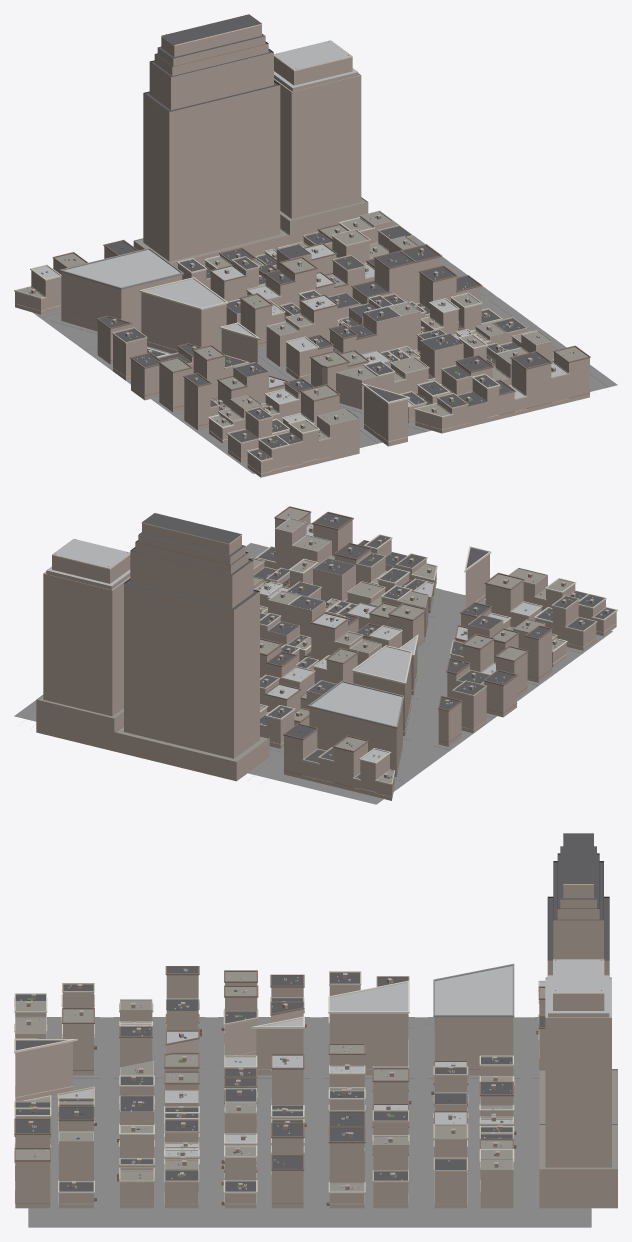
3 views of the same model, one above another, from view 1: azimuth 30°, elevation 25°; view 2: azimuth 150°, elevation 25°; view 3: azimuth 270°, elevation 25° (orthographic). The views are drawn at different scales.
Visible parts, largest first — view 1: t25_facade, t25_roof, t25_detail, t25_ground; view 2: t25_facade, t25_roof, t25_detail, t25_ground; view 3: t25_facade, t25_ground, t25_roof, t25_detail.
Boxes of the visible parts, left/top/right/bottom form: t25_facade: left=15, top=25, right=589, bottom=477; t25_roof: left=18, top=14, right=588, bottom=460; t25_detail: left=14, top=41, right=590, bottom=473; t25_ground: left=33, top=210, right=617, bottom=473; t25_facade: left=36, top=513, right=616, bottom=800; t25_roof: left=38, top=507, right=614, bottom=783; t25_detail: left=36, top=506, right=617, bottom=797; t25_ground: left=14, top=543, right=612, bottom=804; t25_facade: left=15, top=885, right=617, bottom=1208; t25_ground: left=28, top=1017, right=591, bottom=1227; t25_roof: left=15, top=833, right=617, bottom=1191; t25_detail: left=14, top=853, right=617, bottom=1205.
Bounding box in the file's own units: 389 × 227 × 461.
